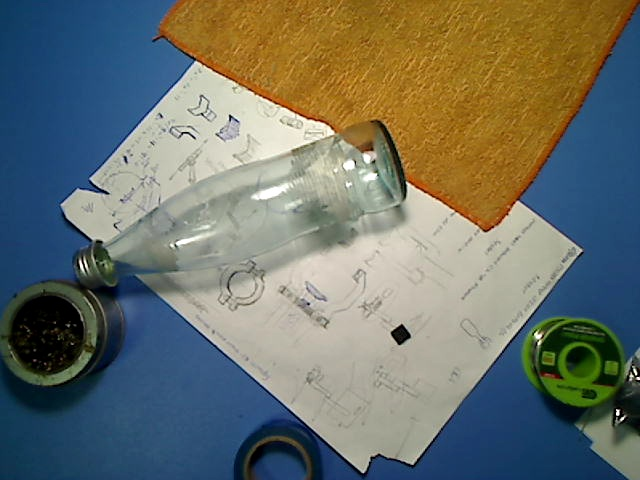bottle: (71, 118, 407, 289)
